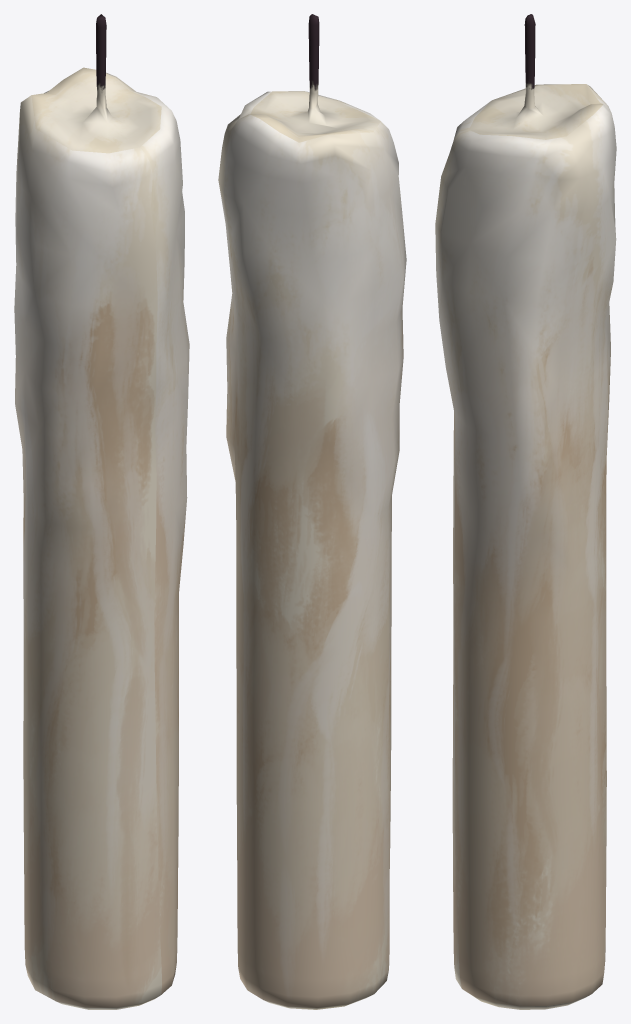
The model's file is Candle.fbx.
3 renders of one model, left to right at view 1: azimuth 30°, elevation 25°; view 2: azimuth 150°, elevation 25°; view 3: azimuth 270°, elevation 25°, orthographic.
Visible parts, largest first — view 1: CandleLow.uvl; view 2: CandleLow.uvl; view 3: CandleLow.uvl.
Part boxes in pixels (<box>): CandleLow.uvl: <box>14,14,189,1009</box>; CandleLow.uvl: <box>218,14,406,1009</box>; CandleLow.uvl: <box>435,14,616,1009</box>.
Size of the model in its own units: 23.32 by 133 by 22.5.
